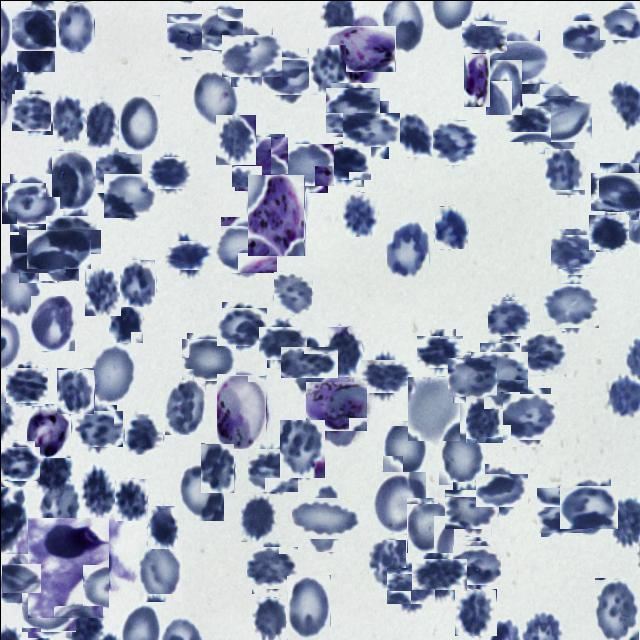gametocyte: (307, 378, 363, 434)
leukocyte: (22, 522, 114, 612)
red blood cell: (372, 470, 426, 534), (528, 89, 586, 147), (407, 376, 459, 440), (216, 220, 272, 276), (298, 490, 352, 544), (490, 34, 544, 88), (286, 574, 330, 640), (190, 68, 238, 128), (88, 343, 135, 403), (501, 390, 554, 443), (594, 578, 639, 640), (225, 29, 277, 82), (138, 539, 182, 601), (32, 222, 84, 274), (177, 462, 223, 520), (544, 280, 596, 331), (562, 481, 614, 532), (406, 497, 454, 552), (279, 419, 324, 477), (382, 419, 428, 475), (51, 150, 95, 208), (23, 584, 74, 634), (30, 294, 75, 350), (5, 177, 55, 227), (327, 84, 377, 134), (474, 346, 524, 396), (438, 430, 484, 484), (118, 93, 160, 151), (386, 221, 428, 279), (538, 485, 587, 534), (163, 380, 205, 436), (106, 171, 154, 220), (184, 335, 232, 383), (430, 117, 478, 165), (282, 140, 330, 188), (13, 230, 61, 278), (49, 210, 96, 258), (90, 150, 137, 197), (448, 485, 495, 532), (264, 52, 312, 98), (248, 544, 296, 590), (595, 166, 640, 214), (520, 330, 566, 376), (249, 446, 295, 492), (348, 106, 394, 152), (485, 58, 522, 114), (449, 354, 494, 400), (215, 114, 255, 164), (218, 304, 263, 348), (286, 339, 330, 384), (454, 588, 496, 635), (16, 21, 55, 71), (324, 325, 362, 376), (454, 542, 498, 586), (544, 147, 585, 194), (167, 13, 210, 57), (416, 552, 460, 595), (322, 140, 367, 182), (35, 483, 77, 528), (82, 98, 119, 148), (12, 8, 55, 51), (388, 564, 432, 606), (58, 1, 94, 52), (76, 406, 118, 449), (50, 92, 86, 142), (465, 395, 503, 442), (119, 258, 156, 306), (240, 492, 276, 541), (364, 354, 406, 396), (480, 468, 522, 510), (80, 467, 116, 516), (368, 539, 405, 586), (308, 44, 345, 91), (84, 267, 120, 315), (12, 91, 54, 132), (201, 8, 242, 50), (506, 102, 547, 144), (394, 112, 433, 156), (56, 368, 94, 413), (200, 442, 234, 492), (262, 322, 303, 363), (272, 272, 313, 313), (342, 191, 378, 236), (553, 231, 593, 271), (123, 414, 163, 454), (45, 150, 79, 196), (7, 364, 46, 404), (419, 332, 459, 371), (488, 298, 528, 336), (0, 442, 37, 483), (465, 17, 503, 56), (434, 205, 468, 248), (114, 477, 148, 520), (252, 596, 286, 639), (565, 17, 603, 55), (150, 153, 188, 191), (168, 236, 206, 274), (589, 212, 627, 250), (603, 3, 640, 42), (33, 454, 71, 491), (0, 557, 35, 597), (108, 303, 143, 342), (147, 505, 177, 548)
trophozoite: (247, 173, 304, 255), (216, 374, 266, 448), (332, 19, 390, 78), (232, 134, 286, 188), (26, 403, 70, 457), (463, 52, 490, 106)
